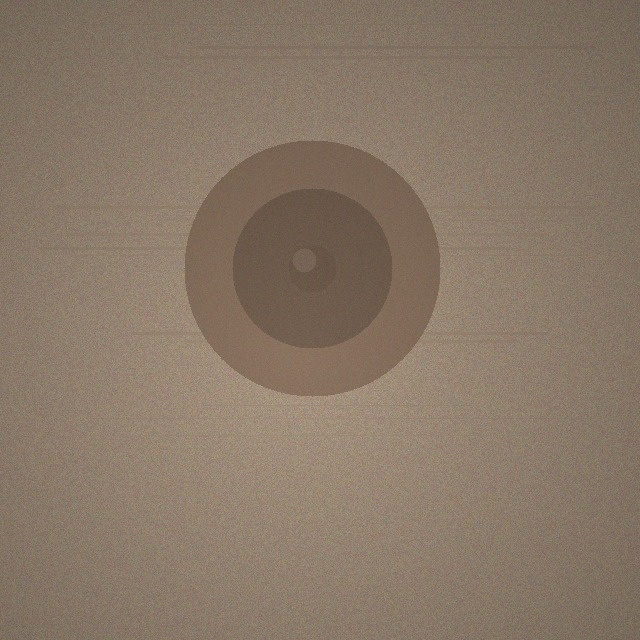good: (184, 140, 440, 396)
